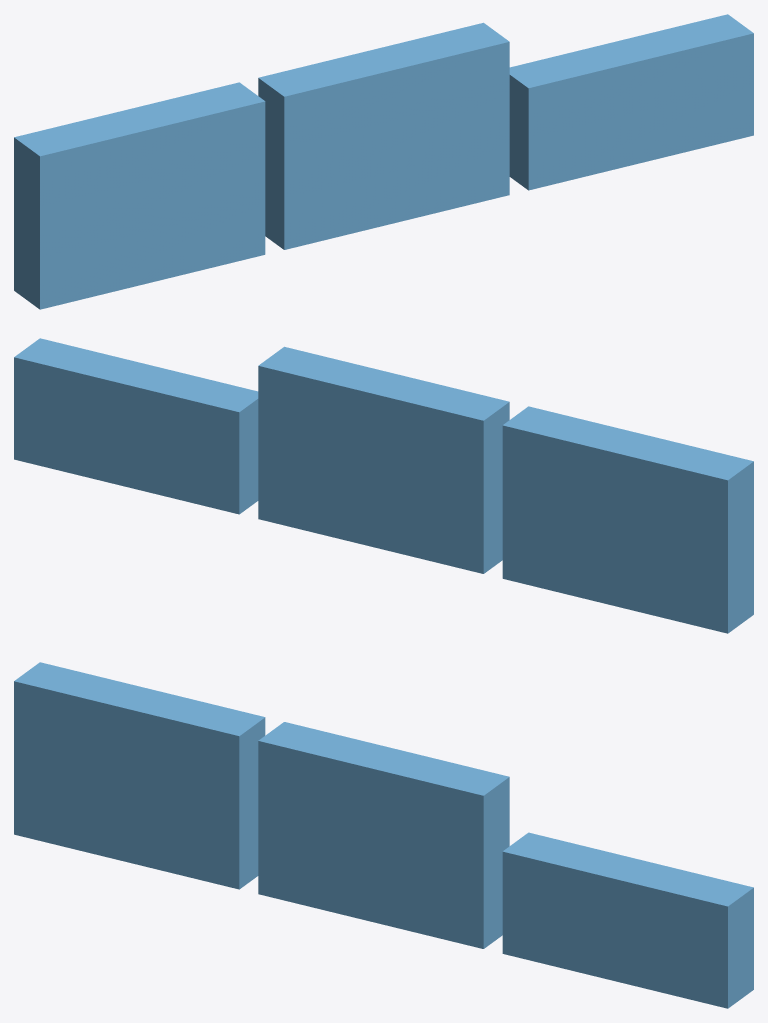
Rendered from container-stack.glb.
3 renders of one model, top to bottom at view 1: azimuth 30°, elevation 25°; view 2: azimuth 150°, elevation 25°; view 3: azimuth 330°, elevation 25°, orthographic.
Size of the model in its own units: 38 by 7.8 by 2.4.
